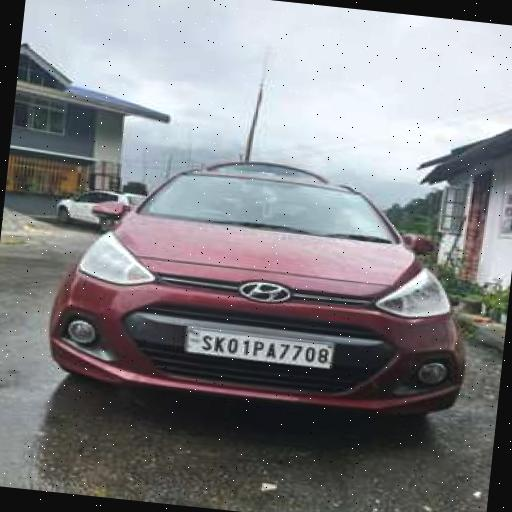license_plate`: (183, 326, 334, 368)
